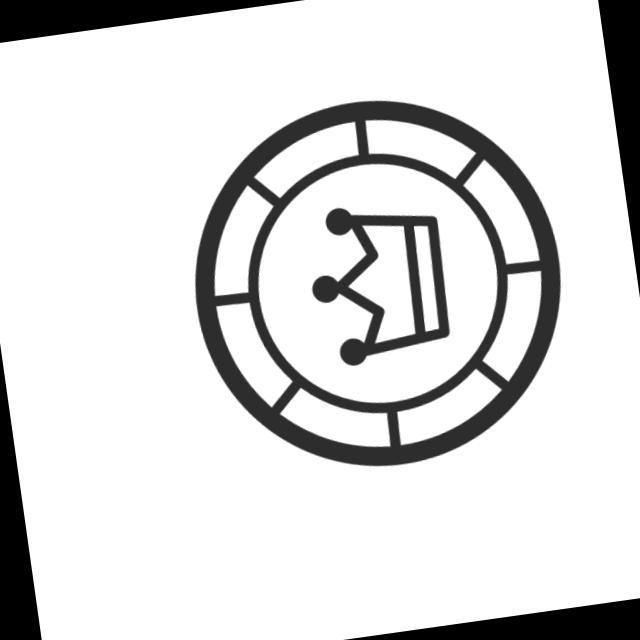coin: (164, 72, 595, 499)
